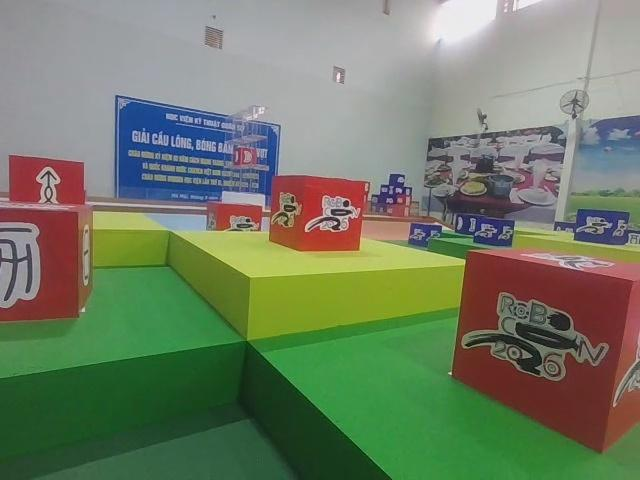R1: (448, 244, 640, 456), (267, 173, 369, 251)
R2 Fake: (0, 201, 97, 322)
R2 Real: (5, 150, 87, 214)
